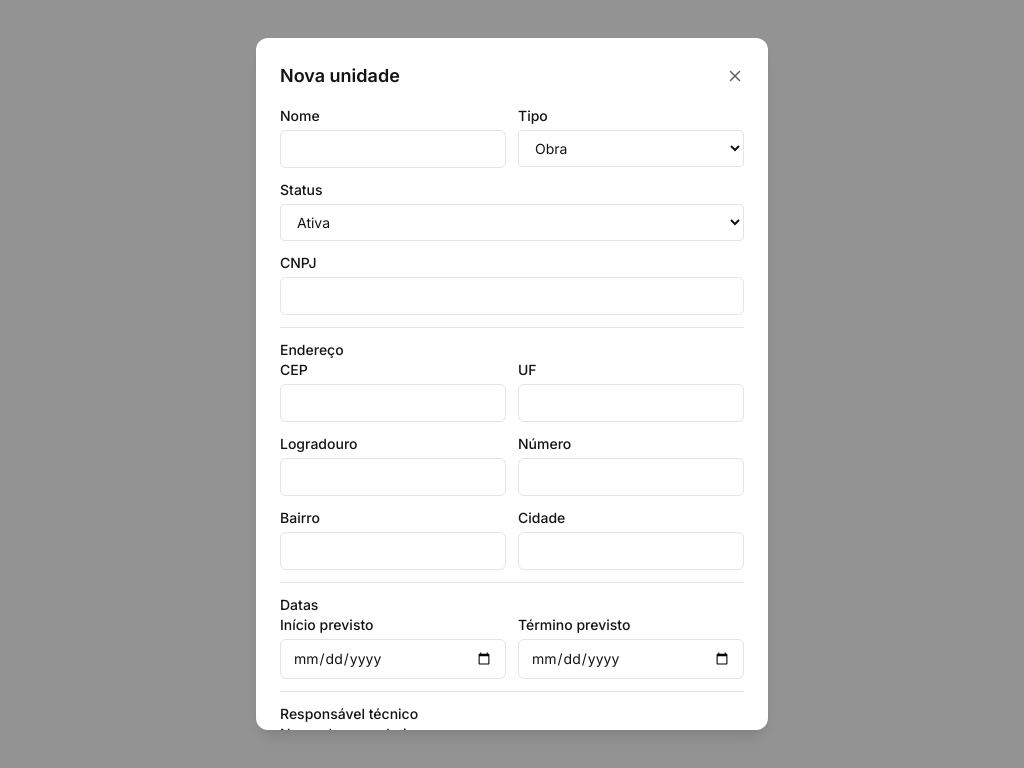
UnitFormModal › valida UF com 2 letras
In the field labelled "Nome": [393, 149] box left=280, top=130, right=506, bottom=168, type "Depósito Novo"
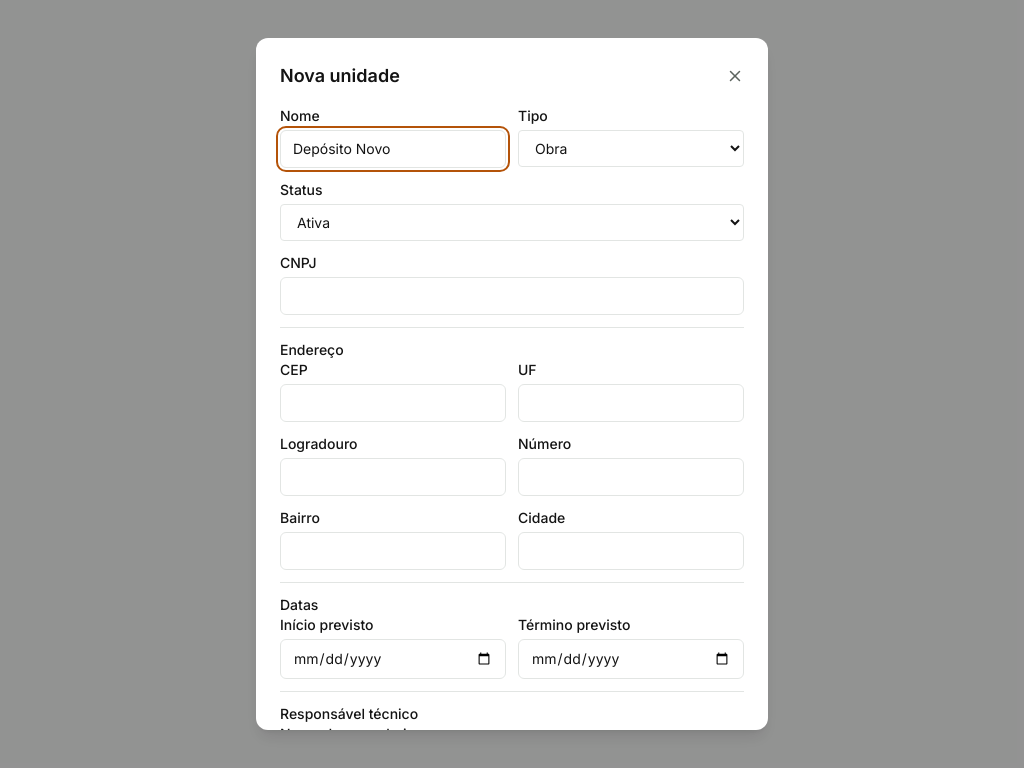
In the field labelled "UF": [631, 403] box left=518, top=384, right=744, bottom=422, type "Bahia"
(page scrolled)
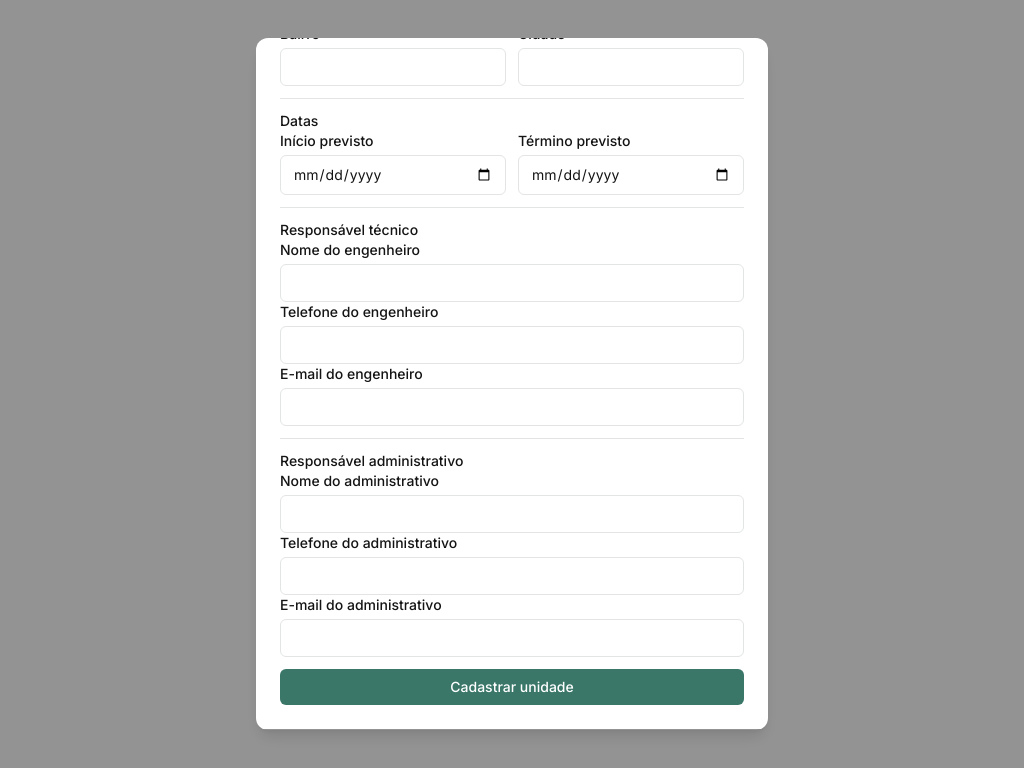
Click the button "Cadastrar unidade": [512, 687] box left=280, top=669, right=744, bottom=705
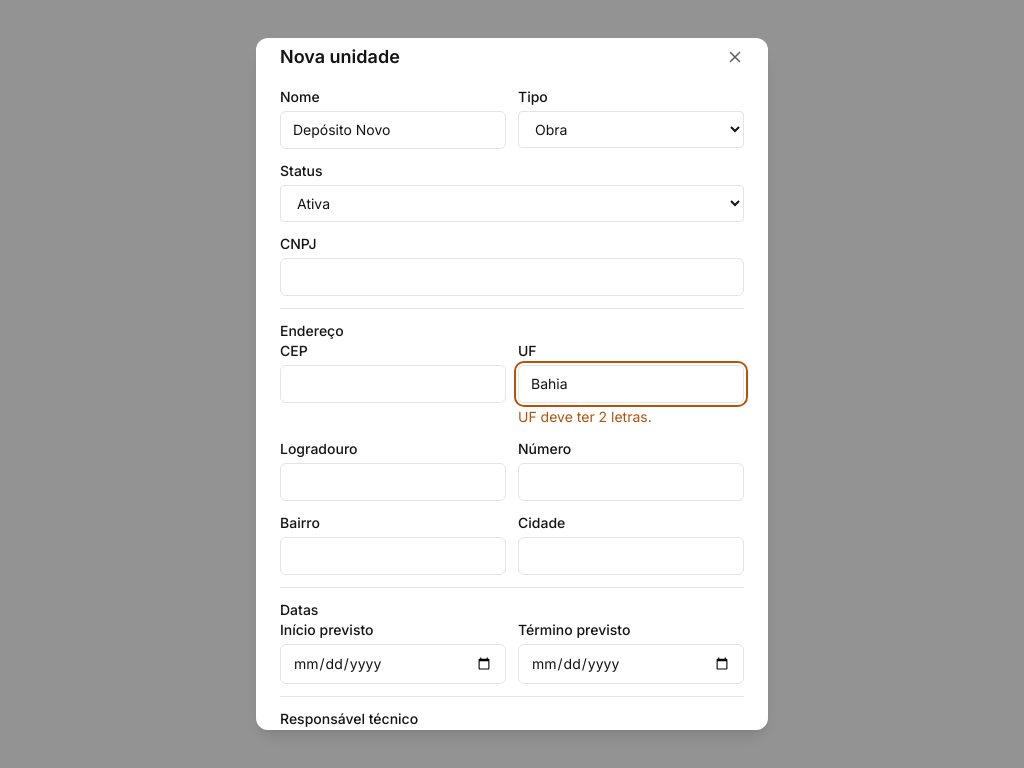
expect the text "UF deve ter 2 letras." is shown: met, box left=518, top=408, right=652, bottom=425
